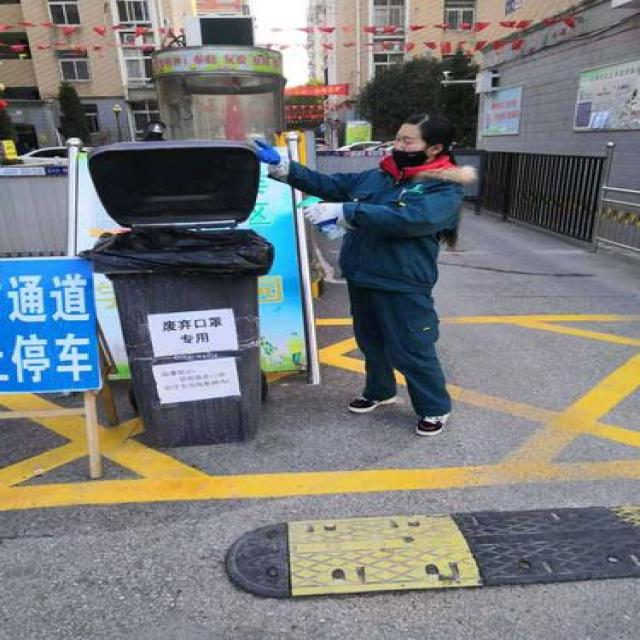garbage_bin: (87, 229, 273, 443)
